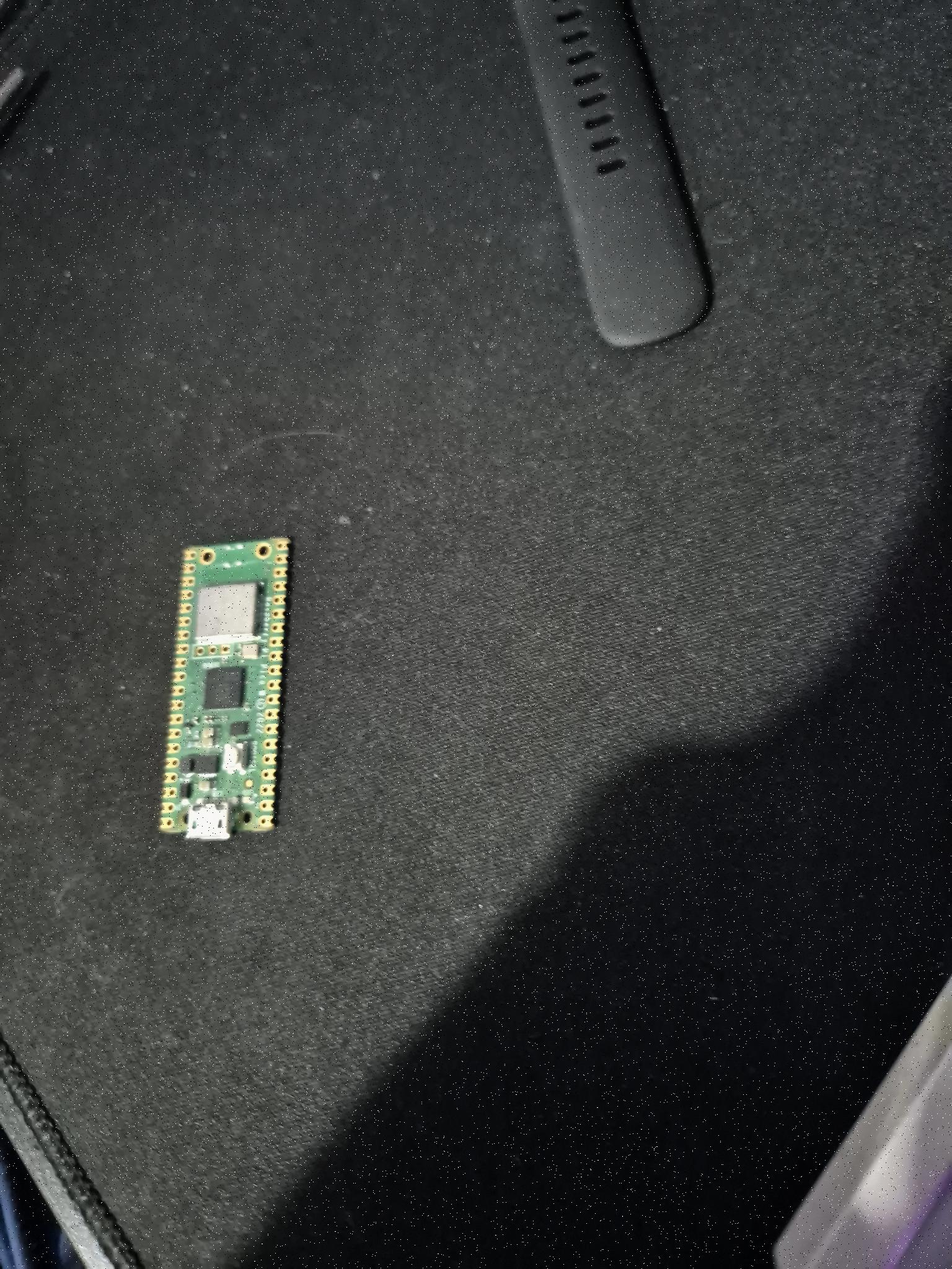raspberry-pi-pico-w: (159, 537, 290, 841)
